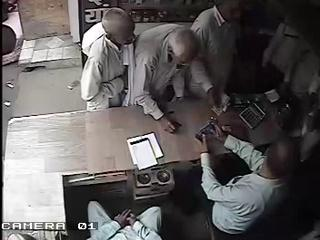Normal: (199, 118, 299, 238), (124, 24, 200, 134), (188, 0, 246, 108), (86, 200, 164, 240)
shoplifting: (80, 8, 137, 111)
